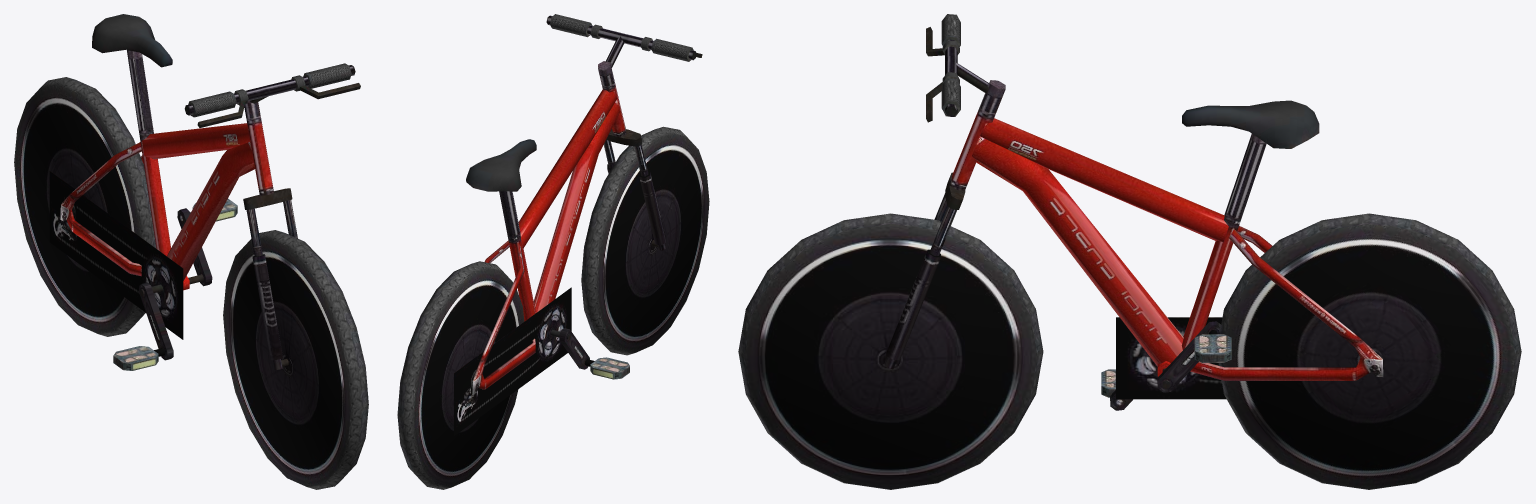
File: bike-1.FBX
The picture shows the model from 3 angles, left to right: view 1: azimuth 30°, elevation 25°; view 2: azimuth 150°, elevation 25°; view 3: azimuth 270°, elevation 25°; orthographic projection. The views are drawn at different scales.
Parts seen in each view (by area): view 1: bicycle-1_LOD0, F_Wheel_LOD0, R_Wheel_LOD0; view 2: bicycle-1_LOD0, F_Wheel_LOD0, R_Wheel_LOD0; view 3: F_Wheel_LOD0, R_Wheel_LOD0, bicycle-1_LOD0.
Part boxes in pixels (x1,y1,x2,y2): bicycle-1_LOD0: (49,14,360,370); F_Wheel_LOD0: (223,230,368,489); R_Wheel_LOD0: (14,77,156,336); bicycle-1_LOD0: (454,14,702,435); F_Wheel_LOD0: (581,126,709,355); R_Wheel_LOD0: (397,261,524,489); F_Wheel_LOD0: (738,213,1043,489); R_Wheel_LOD0: (1218,213,1521,489); bicycle-1_LOD0: (884,14,1383,410).
Size of what is drawn, in the model's own units: 20.14 by 43.95 by 72.14.
